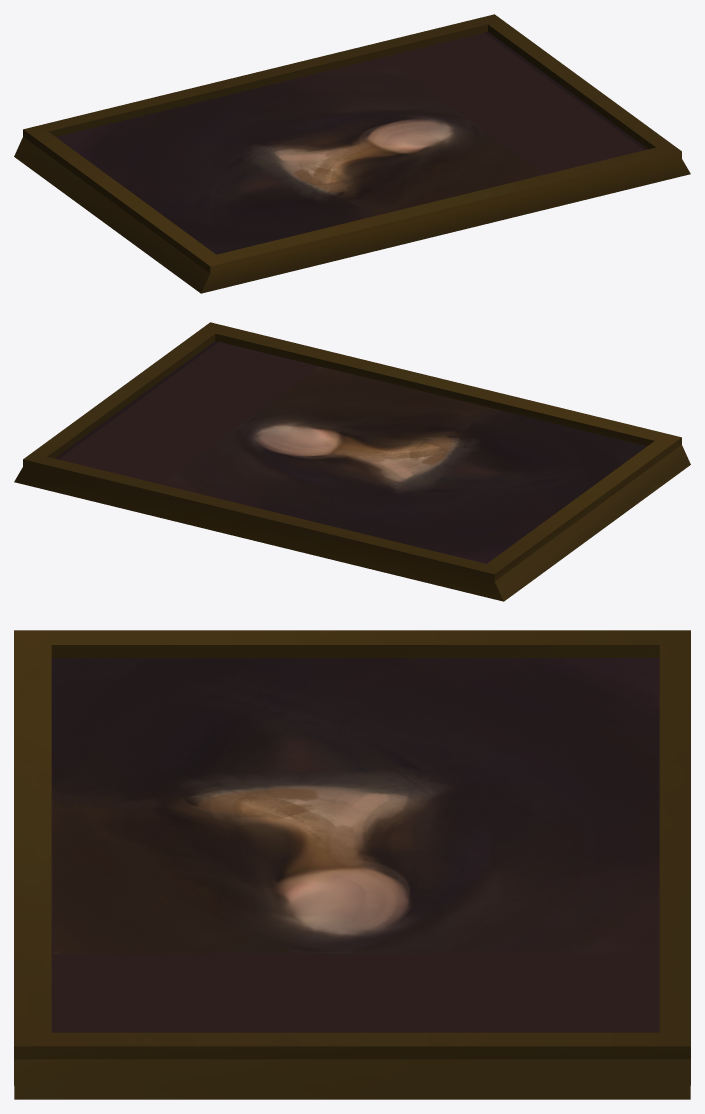
File: portrait.fbx
3 views of the same model, one above another, from view 1: azimuth 30°, elevation 25°; view 2: azimuth 150°, elevation 25°; view 3: azimuth 270°, elevation 25° (orthographic). The views are drawn at different scales.
Visible parts, largest first — view 1: pCube1; view 2: pCube1; view 3: pCube1.
Part boxes in pixels (x1,y1,x2,y2): pCube1: [14, 14, 690, 293]; pCube1: [14, 322, 690, 601]; pCube1: [14, 630, 690, 1099].
Bounding box in the file's own units: 1.68 × 0.0825 × 1.11.
1 material, 1 textured.
